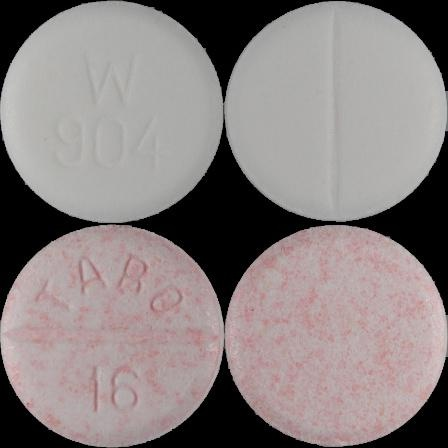53808-0912: (0, 0, 224, 224)
